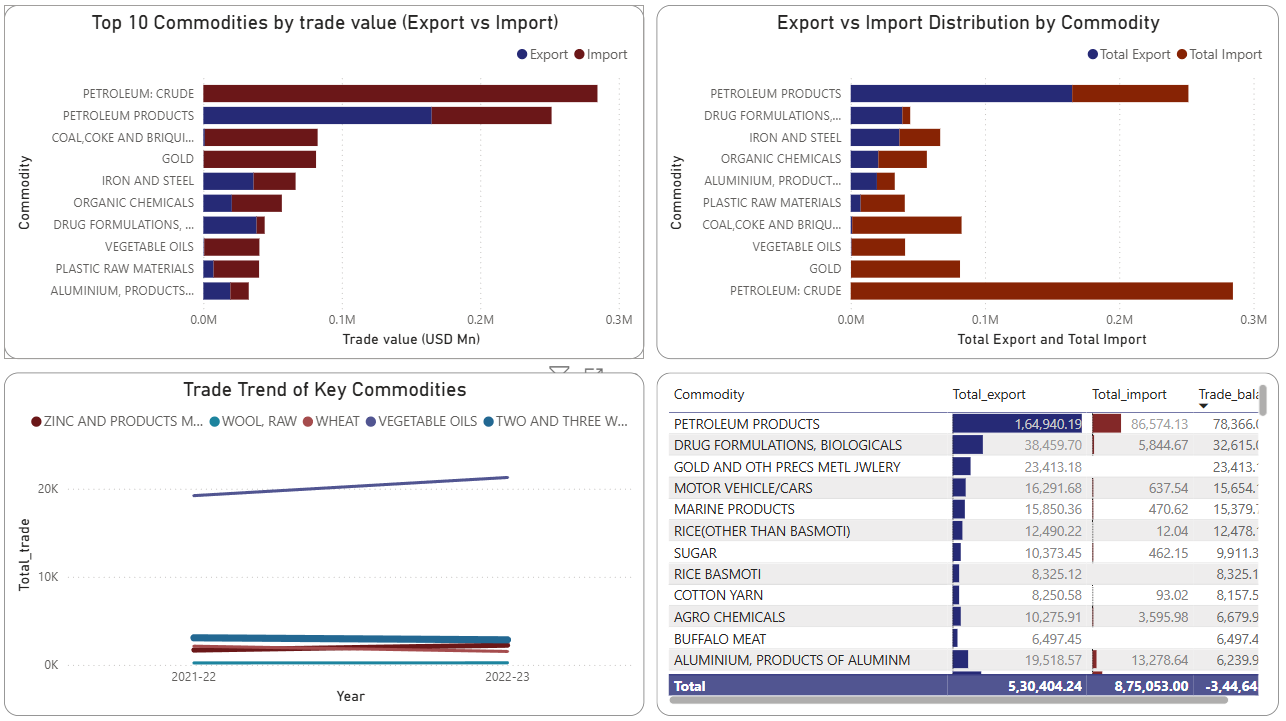

Layout of this report page (visuals, bound fields, positions):
{"tool":"powerbi","page":{"name":"Commodity Analysis","canvas":[1280,720],"ordinal":1},"visuals":[{"type":"barChart","title":"Top 10 Commodities by trade value (Export vs Import)","fields":{"Category":["Trade_data.Commodity"],"Y":["Trade_data.Total_trade"],"Series":["Trade_data.Trade_type"]},"box":[14.4,14.4,626.2,346.3],"z":3000},{"type":"barChart","title":"Export vs Import Distribution by Commodity","fields":{"Category":["Trade_data.Commodity"],"Y":["Trade_data.Total_export","Trade_data.Total_import"]},"box":[653.6,14.4,608.8,346.3],"z":4000},{"type":"lineChart","title":"Trade Trend of Key Commodities","fields":{"Category":["Trade_data.Year"],"Series":["Trade_data.Commodity"],"Y":["Trade_data.Total_trade"]},"box":[14.4,373.7,626.2,336.2],"z":5000},{"type":"tableEx","fields":{"Values":["Trade_data.Commodity","Trade_data.Total_export","Trade_data.Total_import","Trade_data.Trade_balance"]},"box":[653.6,373.7,608.8,336.2],"z":6000}]}

Visuals, with their boxes in screenshot pixels (x1, y1, x2, y2), scaled from the page's 1280x720 canvas onto the 1286x721 screenshot:
"Top 10 Commodities by trade value (Export vs Import)" barChart: {"x1": 14, "y1": 14, "x2": 644, "y2": 361}
"Export vs Import Distribution by Commodity" barChart: {"x1": 657, "y1": 14, "x2": 1268, "y2": 361}
"Trade Trend of Key Commodities" lineChart: {"x1": 14, "y1": 374, "x2": 644, "y2": 711}
tableEx - Trade_data.Commodity x Trade_data.Total_export: {"x1": 657, "y1": 374, "x2": 1268, "y2": 711}
